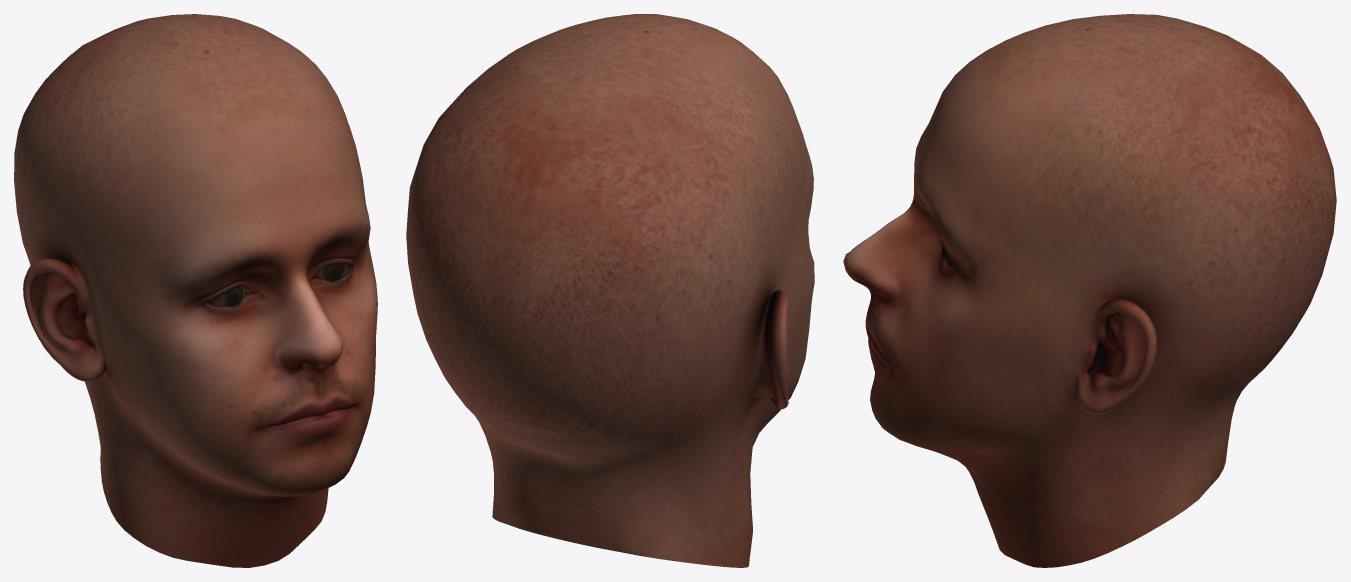
3 renders of one model, left to right at view 1: azimuth 30°, elevation 25°; view 2: azimuth 150°, elevation 25°; view 3: azimuth 270°, elevation 25°, orthographic. The views are drawn at different scales.
Visible parts, largest first — view 1: Head; view 2: Head; view 3: Head.
Part boxes in pixels (box(x1,y1,x2,y2)): Head: box(14, 14, 377, 567); Head: box(406, 14, 814, 567); Head: box(843, 14, 1336, 567).
Bounding box in the file's own units: 0.188 × 0.267 × 0.2344.
